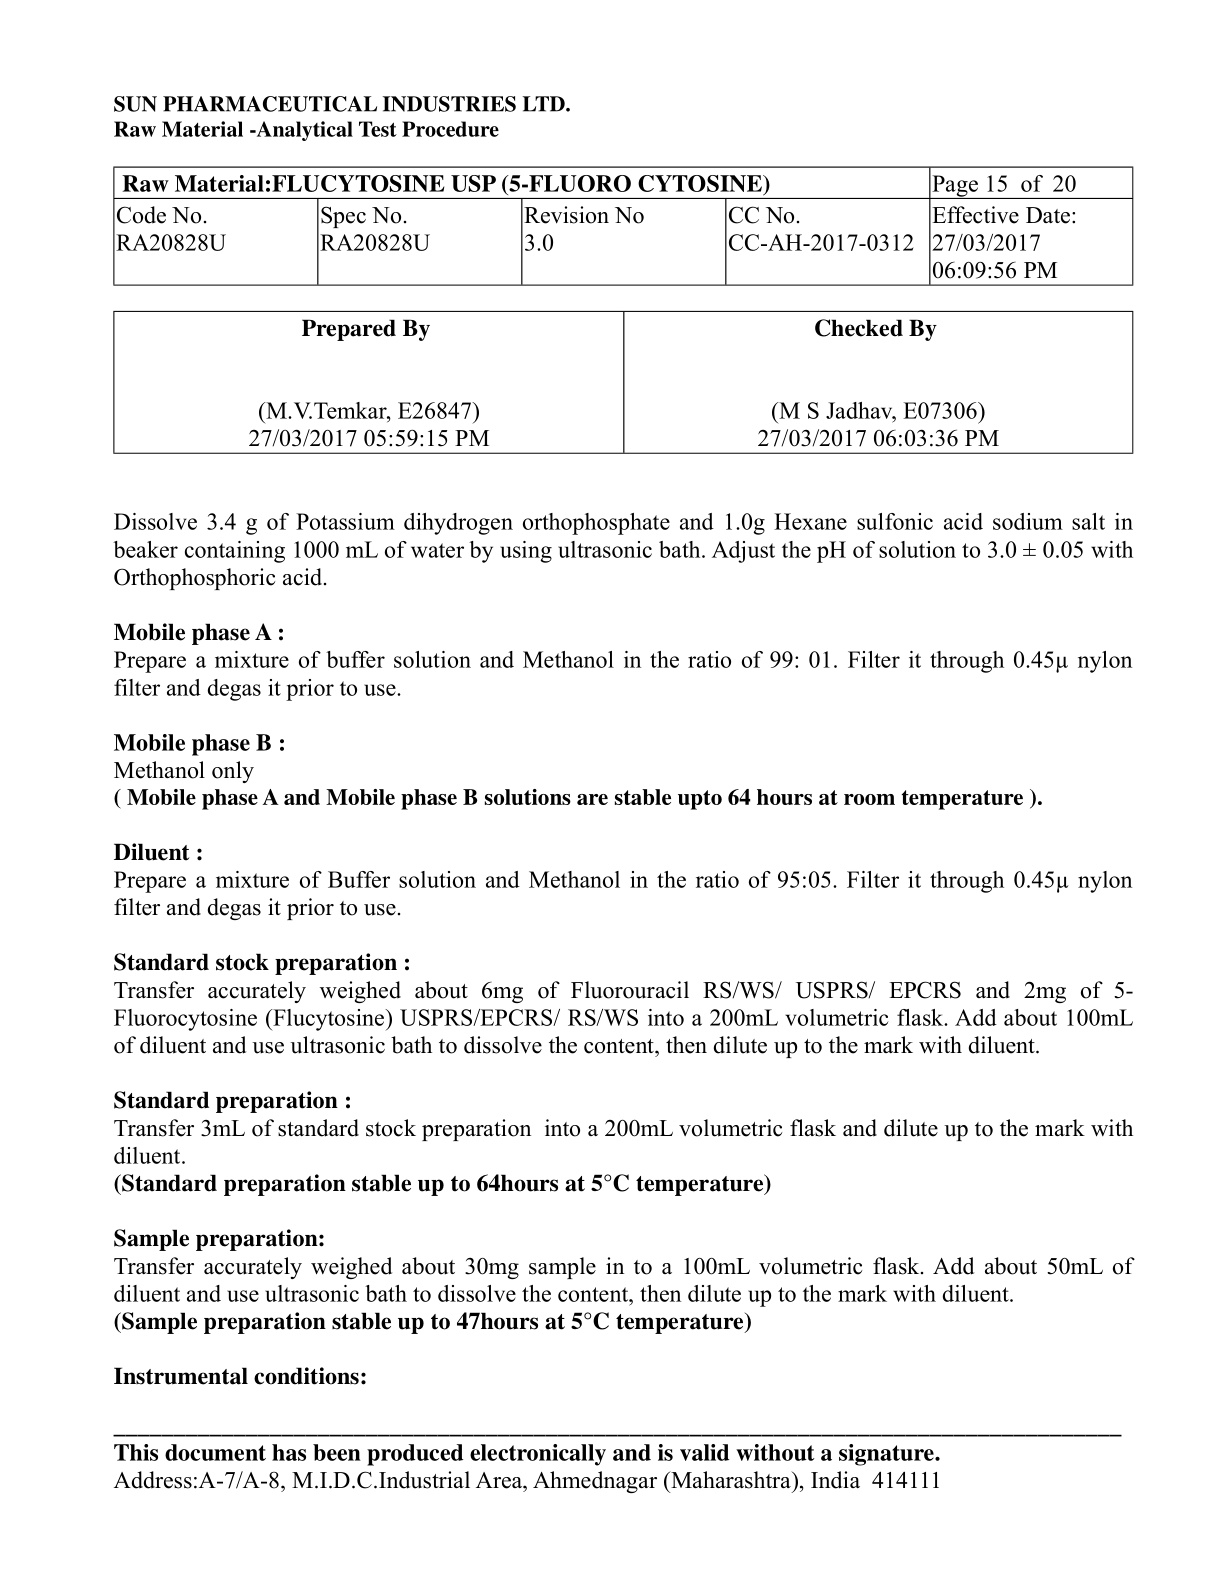full_lined: (112, 309, 1135, 456)
merged_cells: (112, 165, 1135, 288)
